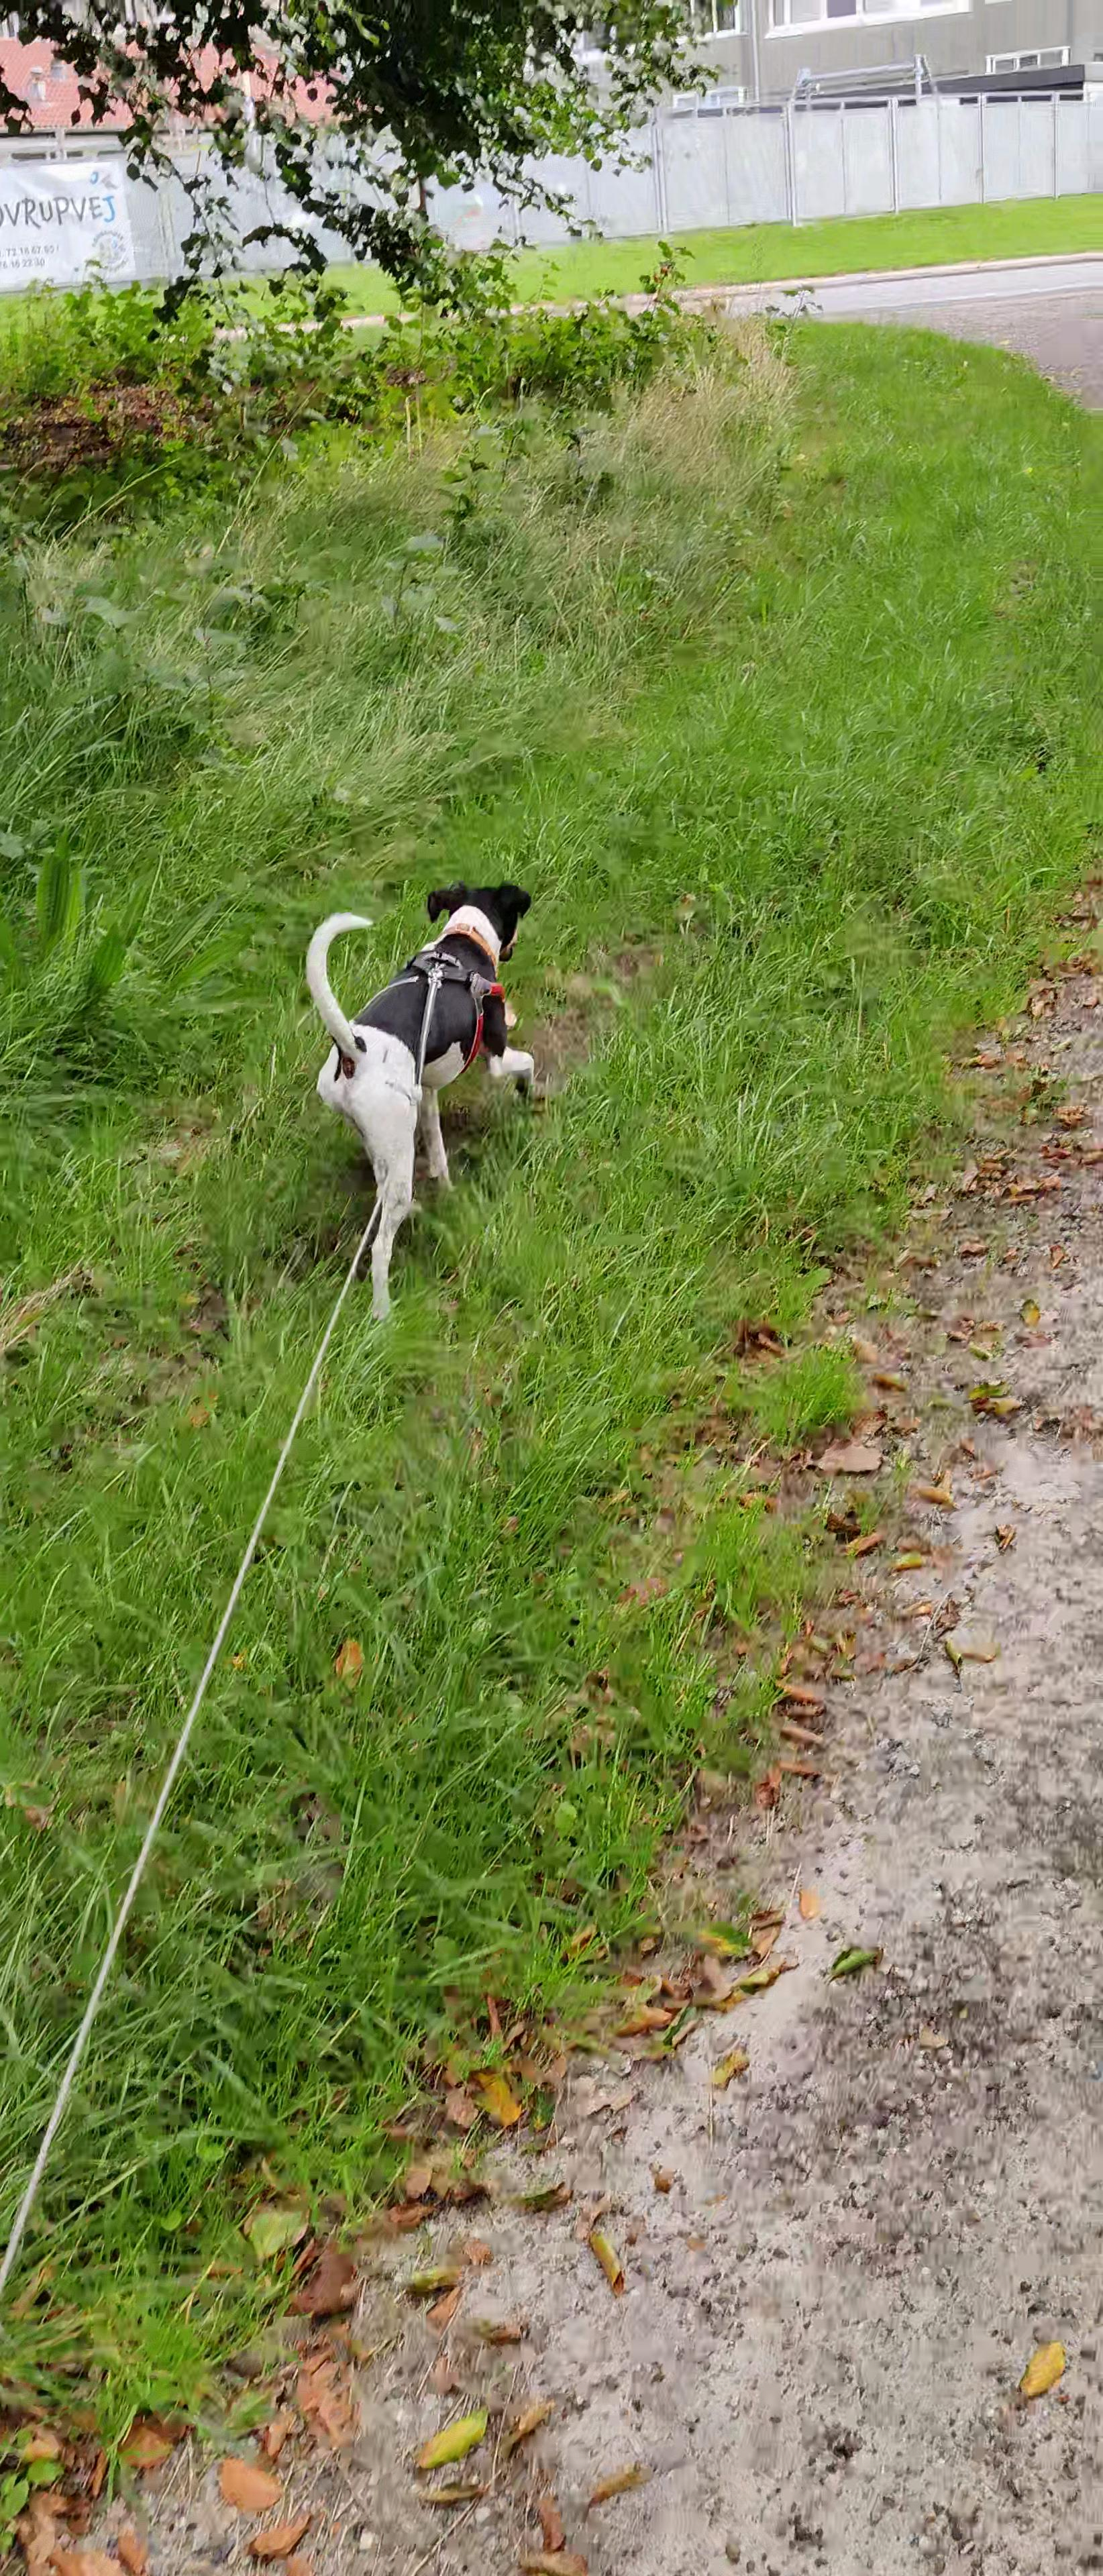Dog: (299, 877, 544, 1332)
